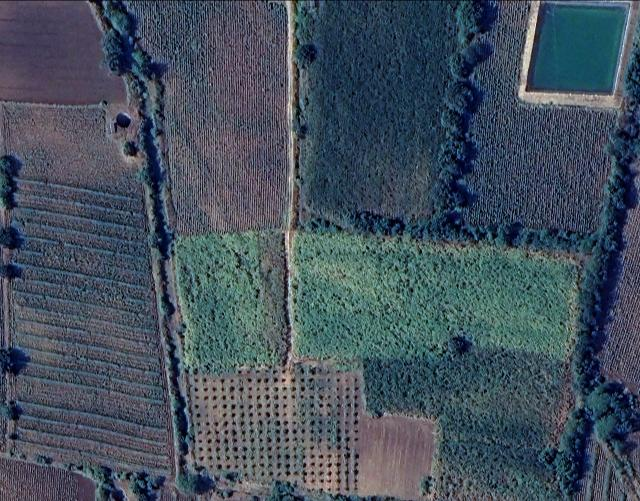EmptyFarms: (0, 0, 124, 102), (361, 415, 436, 501)
Farms: (296, 234, 580, 501), (5, 105, 170, 481), (102, 0, 287, 236), (447, 1, 621, 232), (294, 2, 461, 231), (186, 373, 359, 494), (173, 236, 286, 374)
water: (517, 0, 635, 107)
